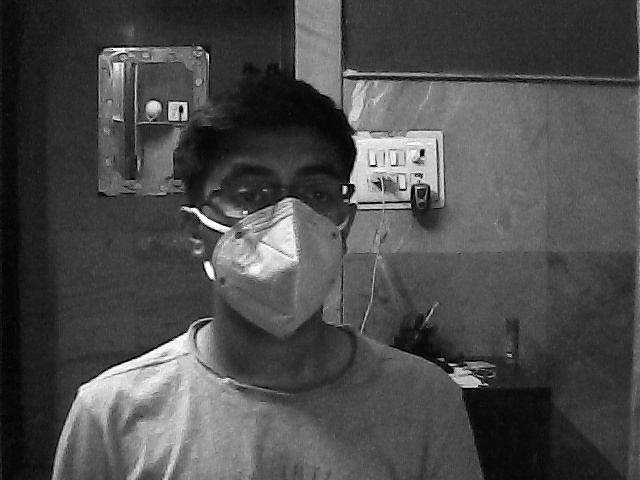mask: (203, 172, 348, 344)
